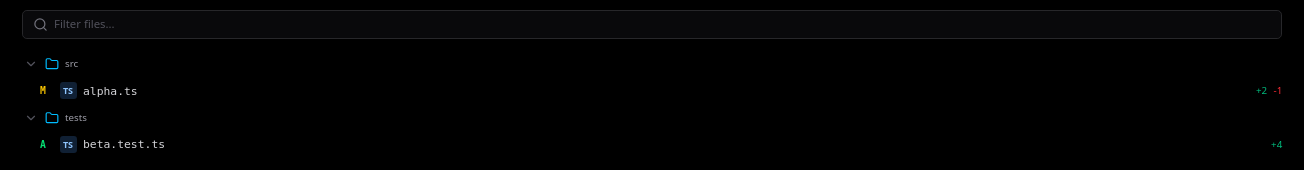
Test: ChangesList › filters changed files by path
Type "beta" into the field with placeholder "Filter files...". click: (663, 24)
box: [54,16,1272,33]
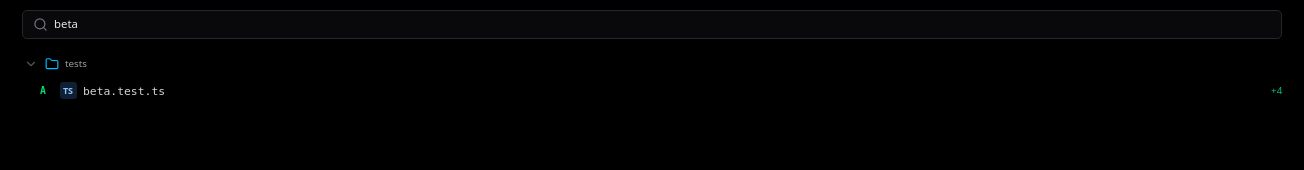
Expected: the text "beta.test.ts" is shown, [83,84,165,98]
Now the button "alpha.ts" is gone
